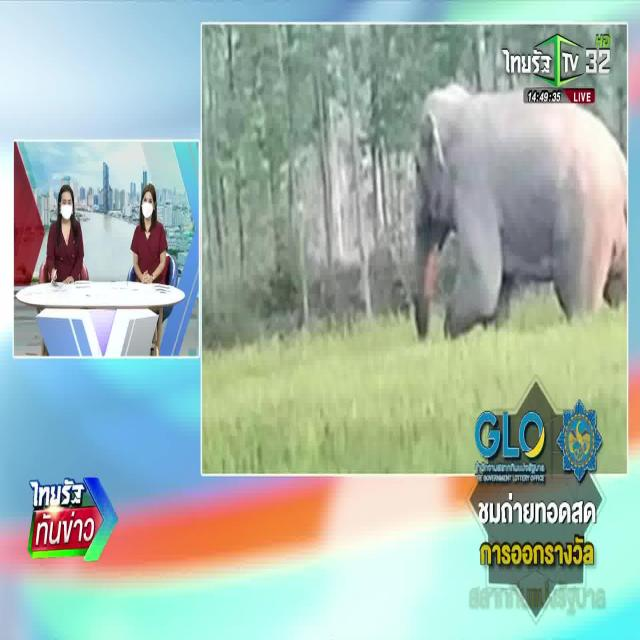Elephant: (411, 48, 613, 306)
